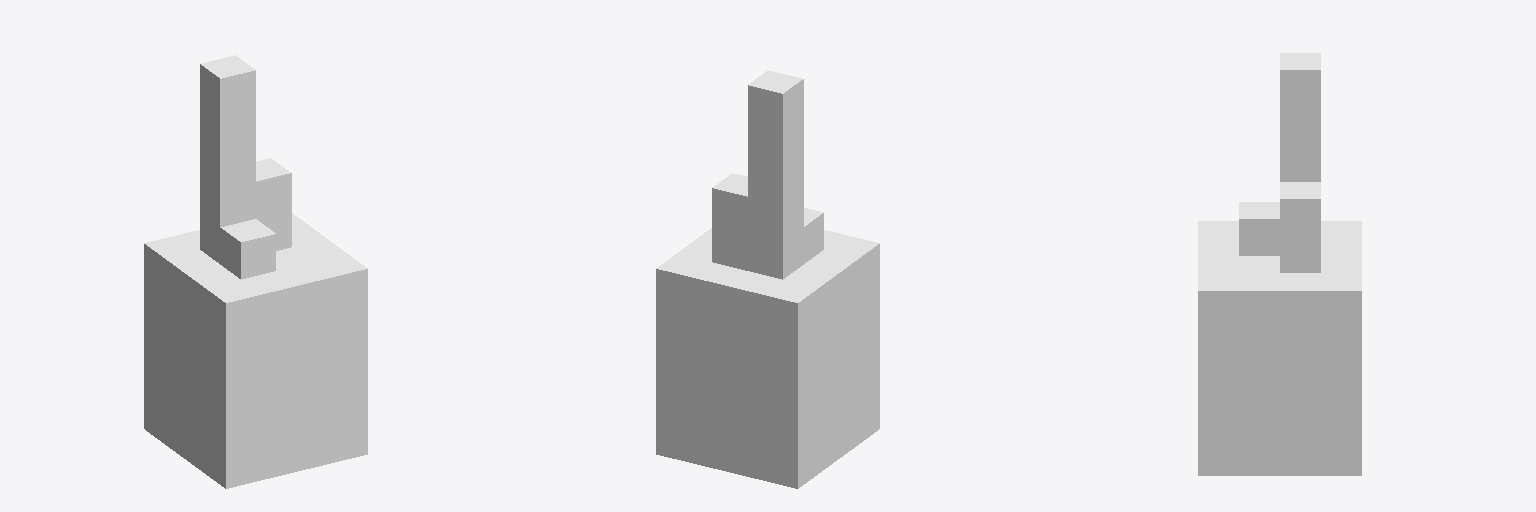
Rendered from pen_holder.obj.
3 renders of one model, left to right at view 1: azimuth 30°, elevation 25°; view 2: azimuth 150°, elevation 25°; view 3: azimuth 270°, elevation 25°, orthographic.
Parts seen in each view (by area): view 1: object 1; view 2: object 1; view 3: object 1.
Boxes of the visible parts, <box> form: object 1: <box>144,55,367,488</box>; object 1: <box>656,70,879,488</box>; object 1: <box>1198,53,1361,475</box>.
Size of the model in its own units: 0.4 by 1 by 0.4.